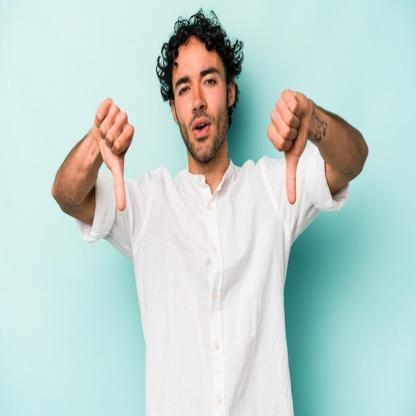thumb_down: (266, 86, 314, 206), (93, 95, 136, 212)
